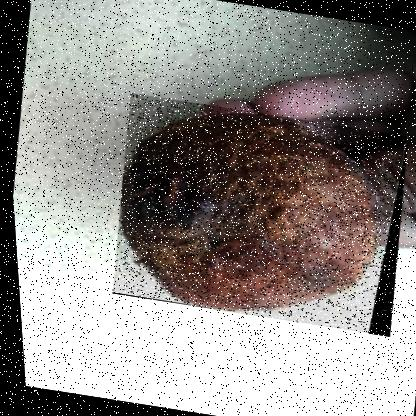guava_rotten: (96, 91, 415, 337)
